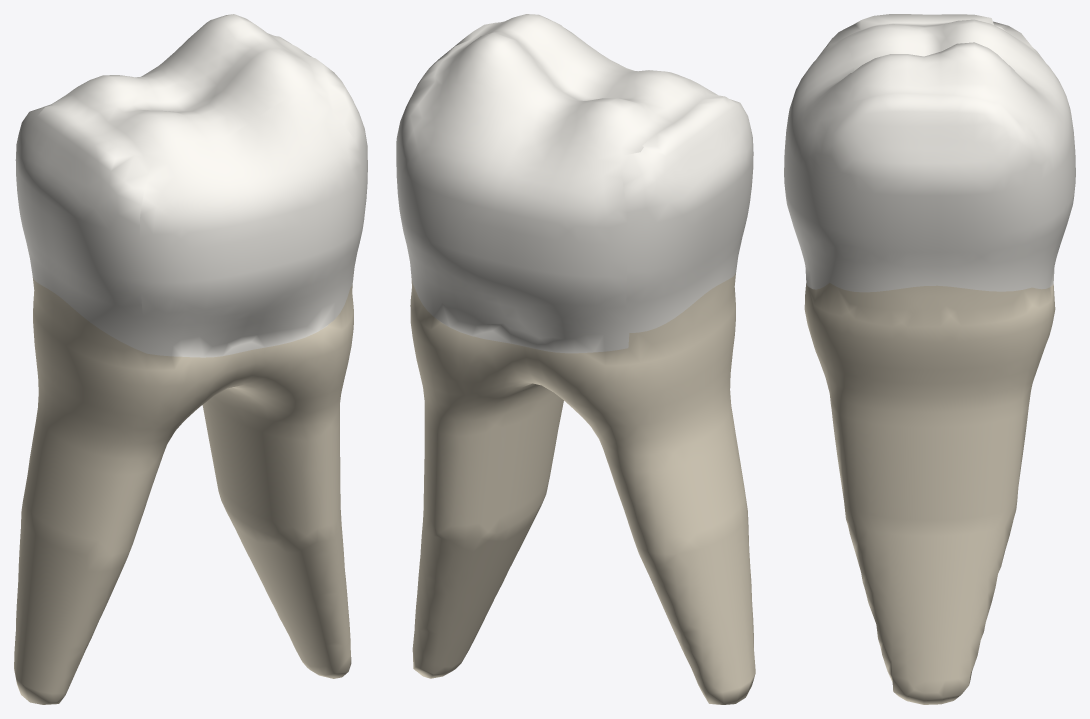
3 renders of one model, left to right at view 1: azimuth 30°, elevation 25°; view 2: azimuth 150°, elevation 25°; view 3: azimuth 270°, elevation 25°, orthographic. The views are drawn at different scales.
Parts seen in each view (by area): view 1: root, V, D, O, M; view 2: root, L, D, O, M; view 3: root, M, O, V, L, D.
Boxes of the visible parts, bbox=[...] form: root: bbox=[14, 277, 353, 704]; V: bbox=[139, 89, 363, 357]; D: bbox=[15, 101, 152, 353]; O: bbox=[52, 14, 329, 158]; M: bbox=[275, 36, 367, 287]; root: bbox=[410, 273, 755, 704]; L: bbox=[401, 80, 629, 353]; D: bbox=[622, 86, 753, 341]; O: bbox=[434, 14, 706, 155]; M: bbox=[396, 23, 493, 289]; root: bbox=[804, 283, 1055, 704]; M: bbox=[820, 89, 1042, 292]; O: bbox=[847, 19, 1010, 102]; V: bbox=[784, 36, 854, 289]; L: bbox=[1005, 34, 1075, 289]; D: bbox=[825, 14, 1031, 47].
Size of the model in its own units: 8.45 by 16.46 by 7.
